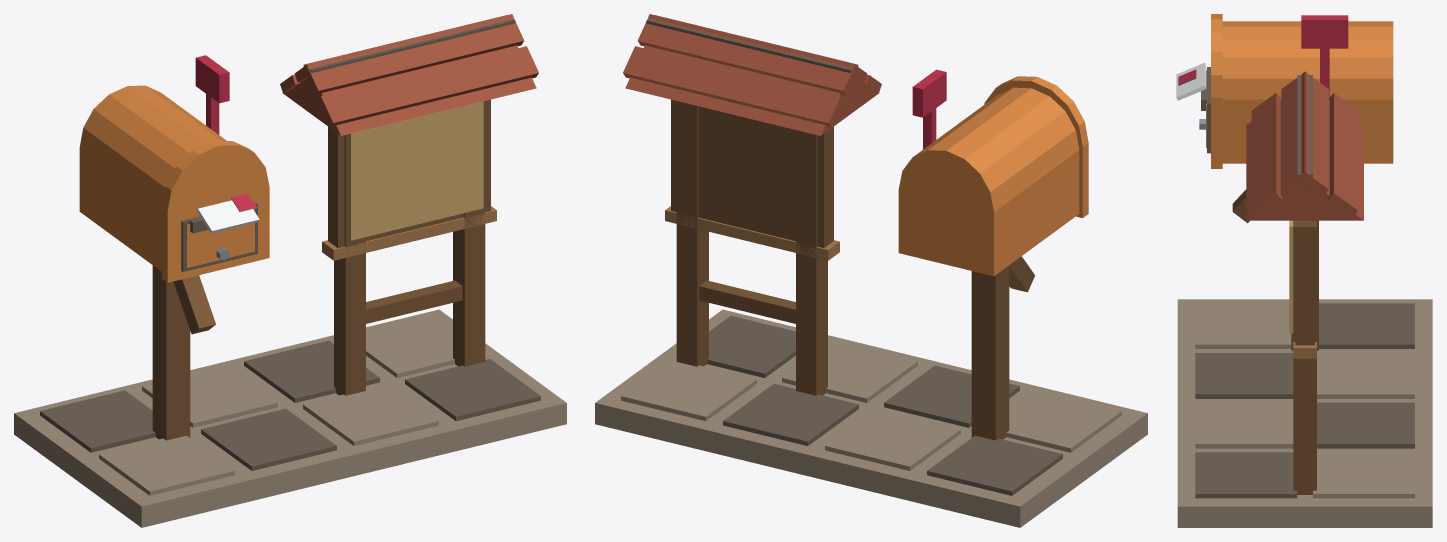
File: AST10.glb
3 renders of one model, left to right at view 1: azimuth 30°, elevation 25°; view 2: azimuth 150°, elevation 25°; view 3: azimuth 270°, elevation 25°, orthographic.
Visible parts, largest first — view 1: AST10_Mailbox, AST10_Board; view 2: AST10_Mailbox; view 3: AST10_Mailbox, AST10_Board.
Boxes of the visible parts, bbox=[...] form: AST10_Mailbox: bbox=[14, 14, 566, 527]; AST10_Board: bbox=[349, 101, 483, 240]; AST10_Mailbox: bbox=[595, 14, 1147, 527]; AST10_Mailbox: bbox=[1176, 14, 1432, 527]; AST10_Board: bbox=[1289, 220, 1293, 333].
Size of the model in its own units: 2.56 by 2.1 by 1.31.
2 materials, 1 textured.
